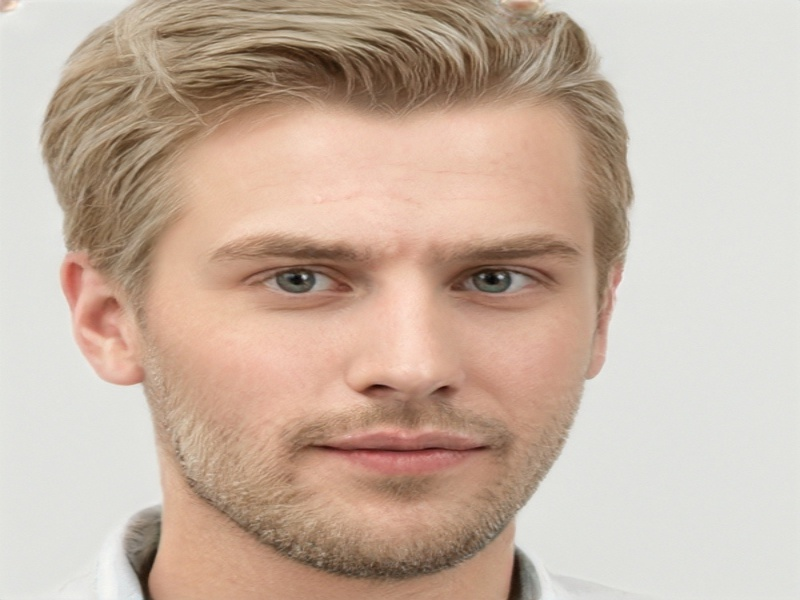face: (203, 229, 579, 496)
